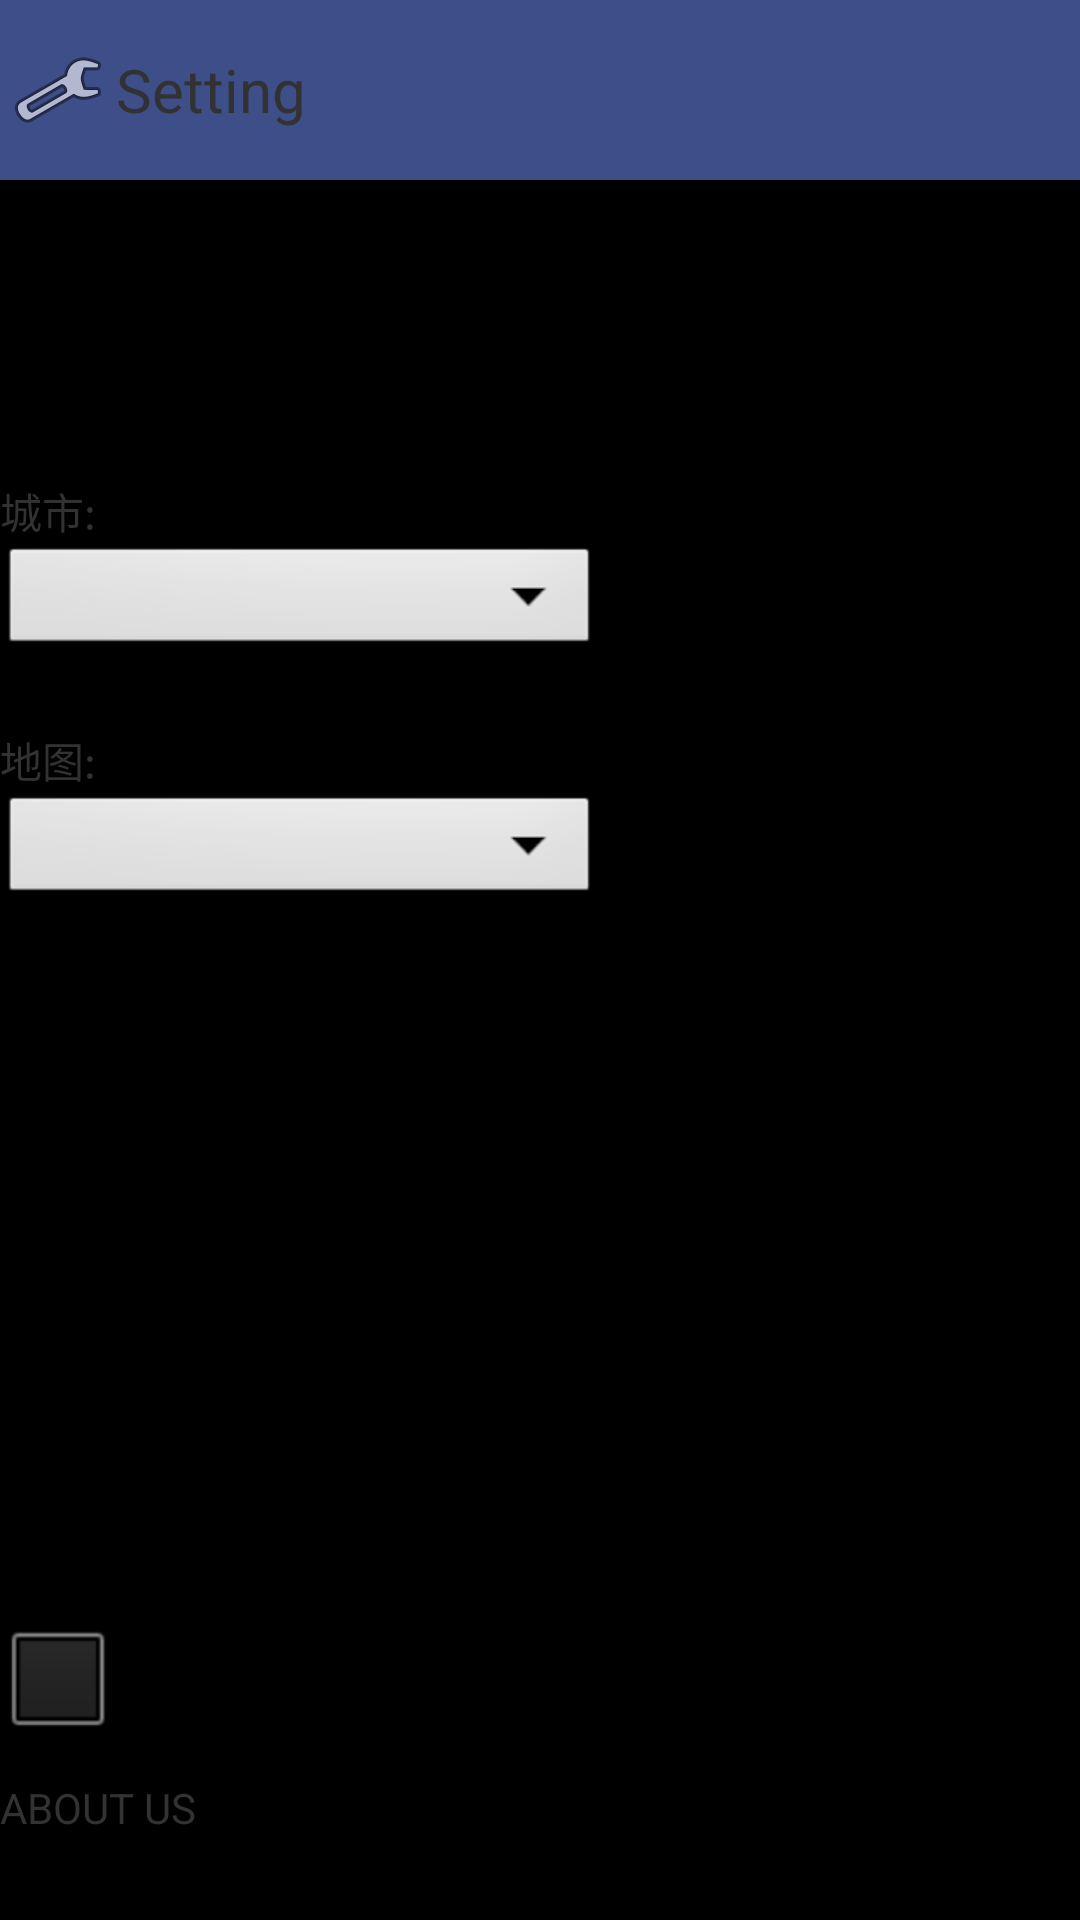

Icon click points for this 1080×1920 phone screenshot, format [x,y]:
manage: [58,90]
